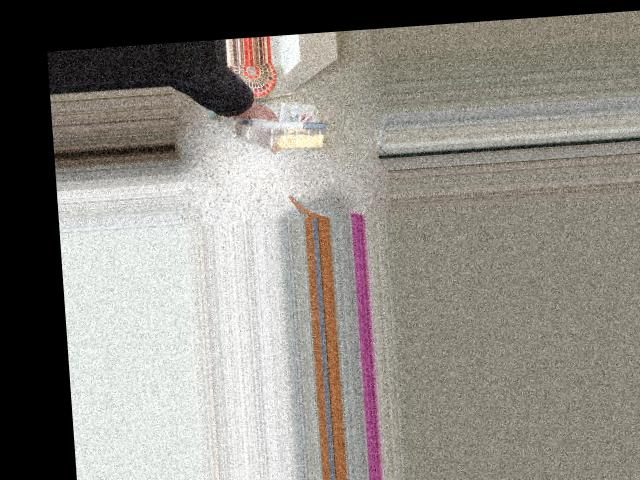cheese: (249, 65, 330, 177)
